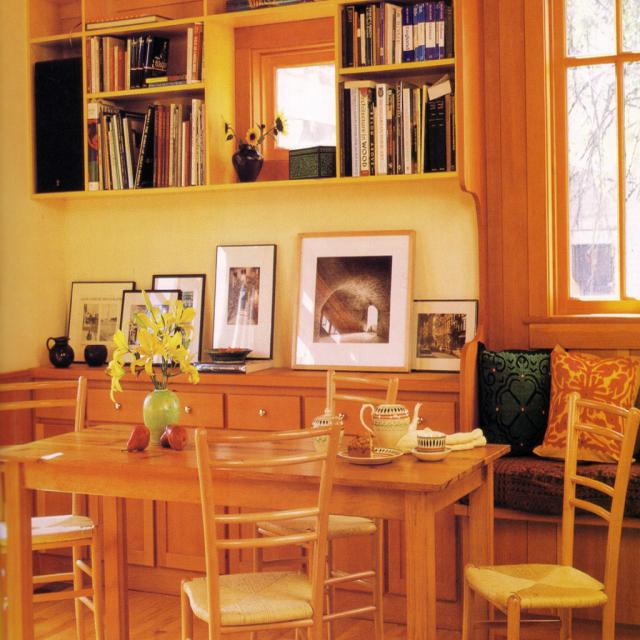2001: (549, 0, 639, 313), (261, 45, 335, 160)
book case: (88, 98, 123, 190), (132, 102, 153, 188), (86, 12, 170, 30), (193, 358, 273, 373), (426, 72, 454, 101)
books: (340, 80, 427, 177), (153, 98, 206, 187), (98, 109, 146, 191), (425, 92, 456, 172), (86, 35, 127, 92), (126, 35, 170, 88), (186, 21, 203, 84)
books crop: (341, 2, 454, 66), (148, 72, 186, 87)
bowl -X: (83, 343, 109, 368), (202, 348, 252, 359)
box contants: (288, 145, 336, 180)
cake occluded: (348, 435, 375, 457)
chair -occluded-: (461, 391, 639, 639), (249, 368, 399, 639), (179, 418, 342, 639), (1, 375, 104, 639)
drawer handle: (306, 396, 378, 437), (228, 392, 301, 431), (88, 388, 150, 424), (396, 399, 454, 434), (174, 391, 225, 429), (34, 388, 86, 419)
flowers in urn: (104, 289, 200, 445), (220, 110, 288, 182)
knob: (259, 408, 268, 418), (339, 412, 348, 420), (114, 402, 123, 410), (418, 415, 423, 426), (186, 407, 191, 413)
napkin ring: (397, 425, 486, 453)
pear: (121, 424, 151, 452)
pears: (160, 422, 188, 450)
picture crop: (292, 230, 415, 370), (211, 243, 274, 358), (66, 280, 135, 364), (116, 289, 181, 368), (151, 273, 206, 366), (411, 299, 476, 371)
pillow occluded: (533, 341, 639, 463), (478, 339, 554, 458)
pitcher: (46, 335, 74, 368)
plate food: (338, 447, 404, 464)
saucer and tea cup: (410, 447, 451, 462)
seat occluded: (460, 458, 640, 518)
speaker: (32, 57, 82, 192)
sugar dish: (311, 406, 344, 452)
table -X: (1, 424, 509, 640)
tea cup: (418, 432, 446, 451)
tea pot: (359, 402, 423, 448)
